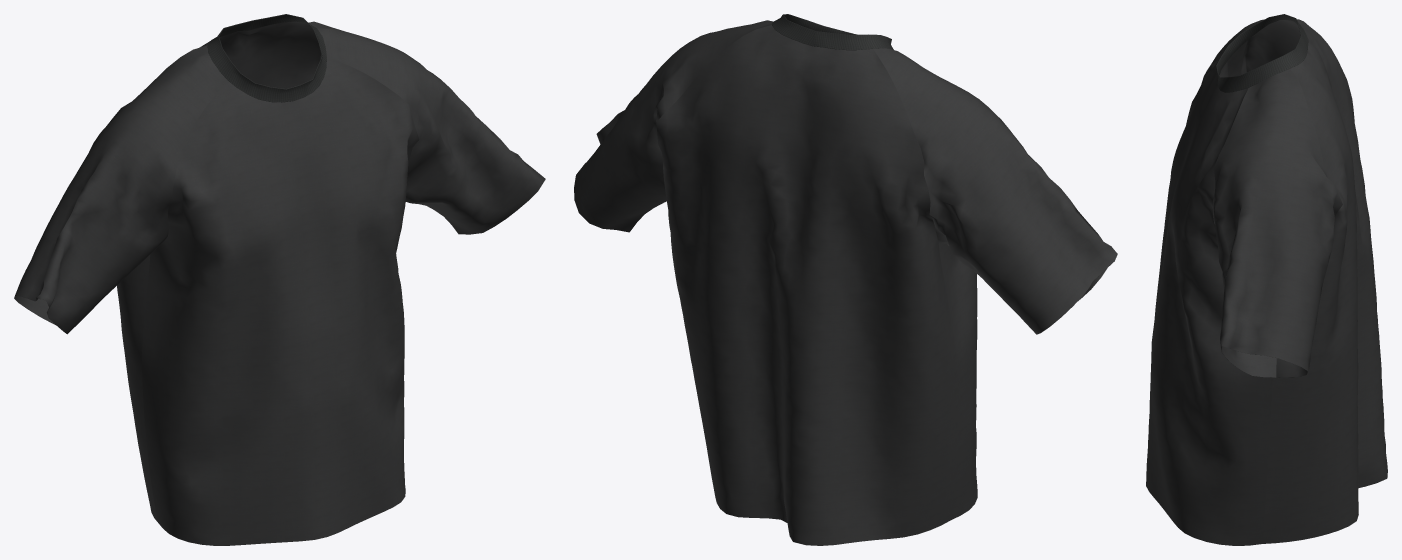
3 views of the same model, side by side, from view 1: azimuth 30°, elevation 25°; view 2: azimuth 150°, elevation 25°; view 3: azimuth 270°, elevation 25° (orthographic). The views are drawn at different scales.
Parts seen in each view (by area): view 1: 3_Node, 1_Node, 5_Node, 2_Node, Pattern_703747_Node; view 2: 2_Node, 1_Node, 5_Node, 3_Node, Pattern_703747_Node; view 3: 3_Node, 2_Node, 5_Node, 1_Node, Pattern_703747_Node.
Part boxes in pixels (x1,y1,x2,y2): 3_Node: (142,58,419,545); 1_Node: (14,45,227,334); 5_Node: (309,21,545,234); 2_Node: (117,21,320,521); Pattern_703747_Node: (207,14,326,102); 2_Node: (656,25,957,545); 1_Node: (873,48,1117,334); 5_Node: (574,20,772,232); 3_Node: (938,243,977,519); Pattern_703747_Node: (772,14,893,50); 3_Node: (1146,44,1272,545); 2_Node: (1262,19,1387,543); 5_Node: (1213,69,1342,377); 1_Node: (1211,19,1300,77); Pattern_703747_Node: (1216,14,1308,92).
Bounding box in the file's own units: 0.3007 × 0.2641 × 0.1258.
2 materials, 2 textured.
